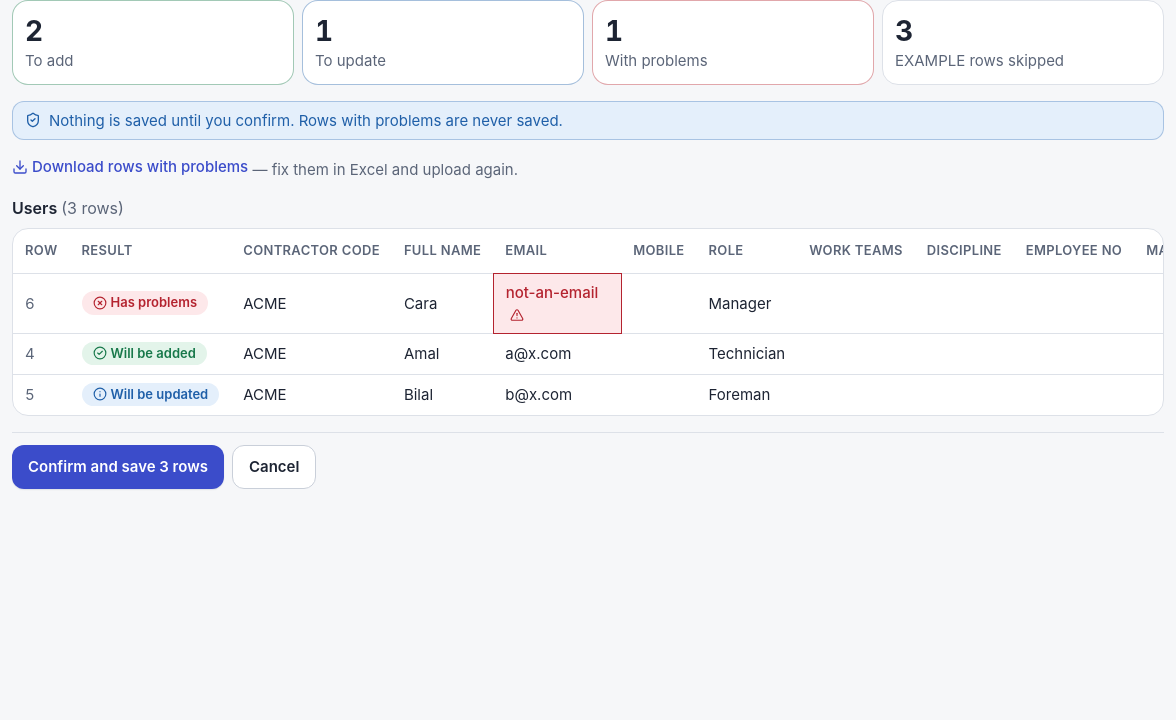
BulkPreview › reveals the reason when the cell is tapped
The image size is (1176, 720).
Click the button with aria-label "Problem in Email, row 6" at (557, 303), box [506,282,609,325]
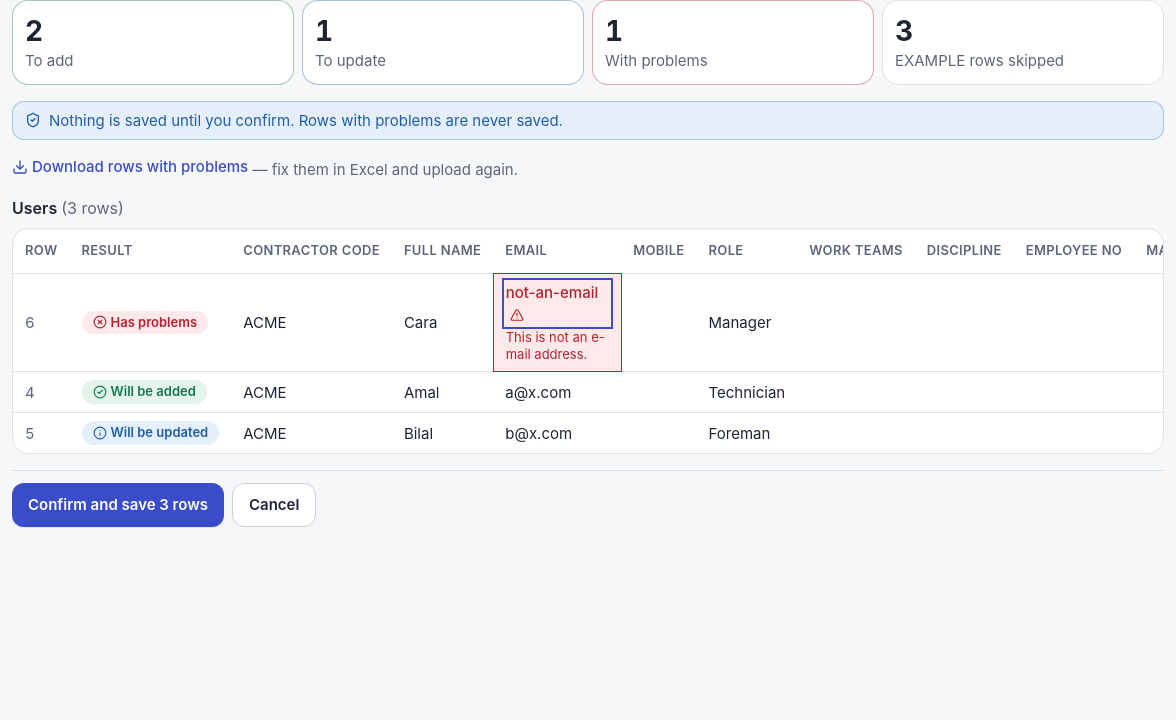
Check: the text "This is not an e-mail address." is shown, box [506,329,609,363]
